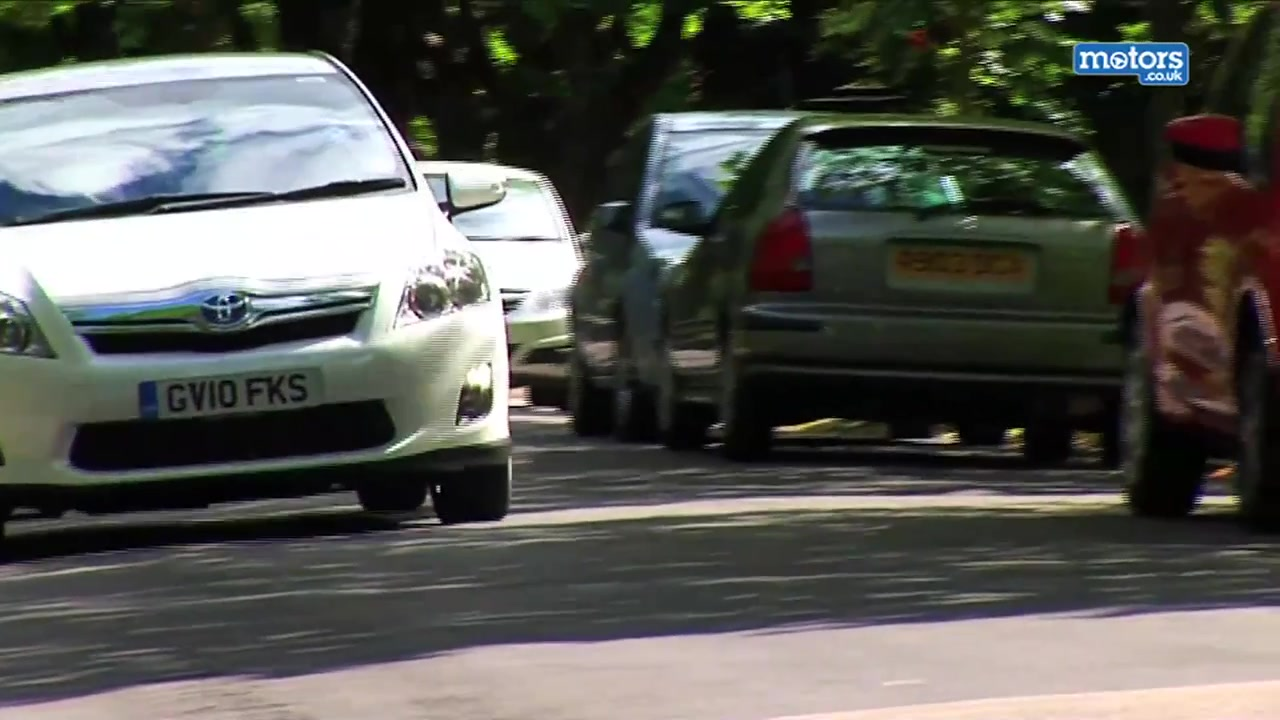car: (2, 45, 516, 534), (653, 109, 1151, 454), (1110, 1, 1280, 543), (564, 104, 815, 454), (412, 158, 598, 414)
